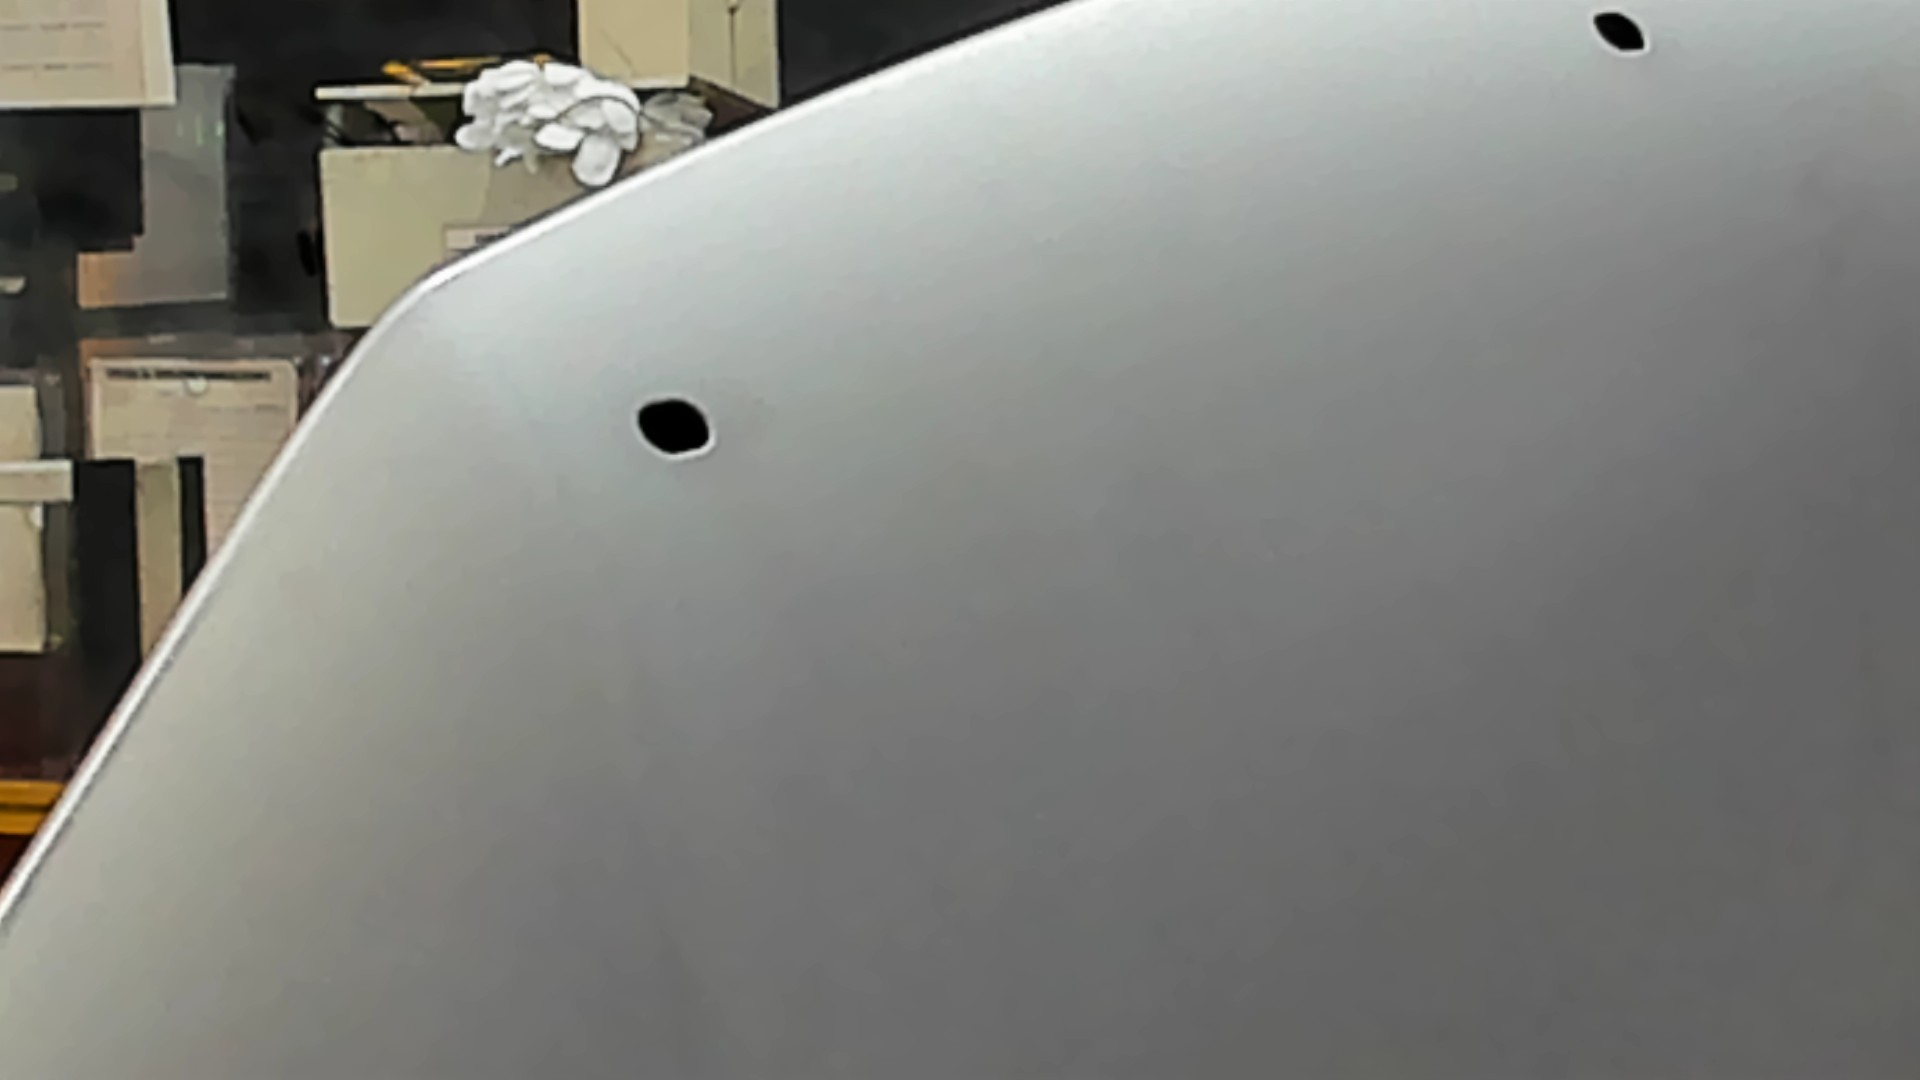Agujero: (626, 386, 721, 465), (1578, 5, 1658, 61)
